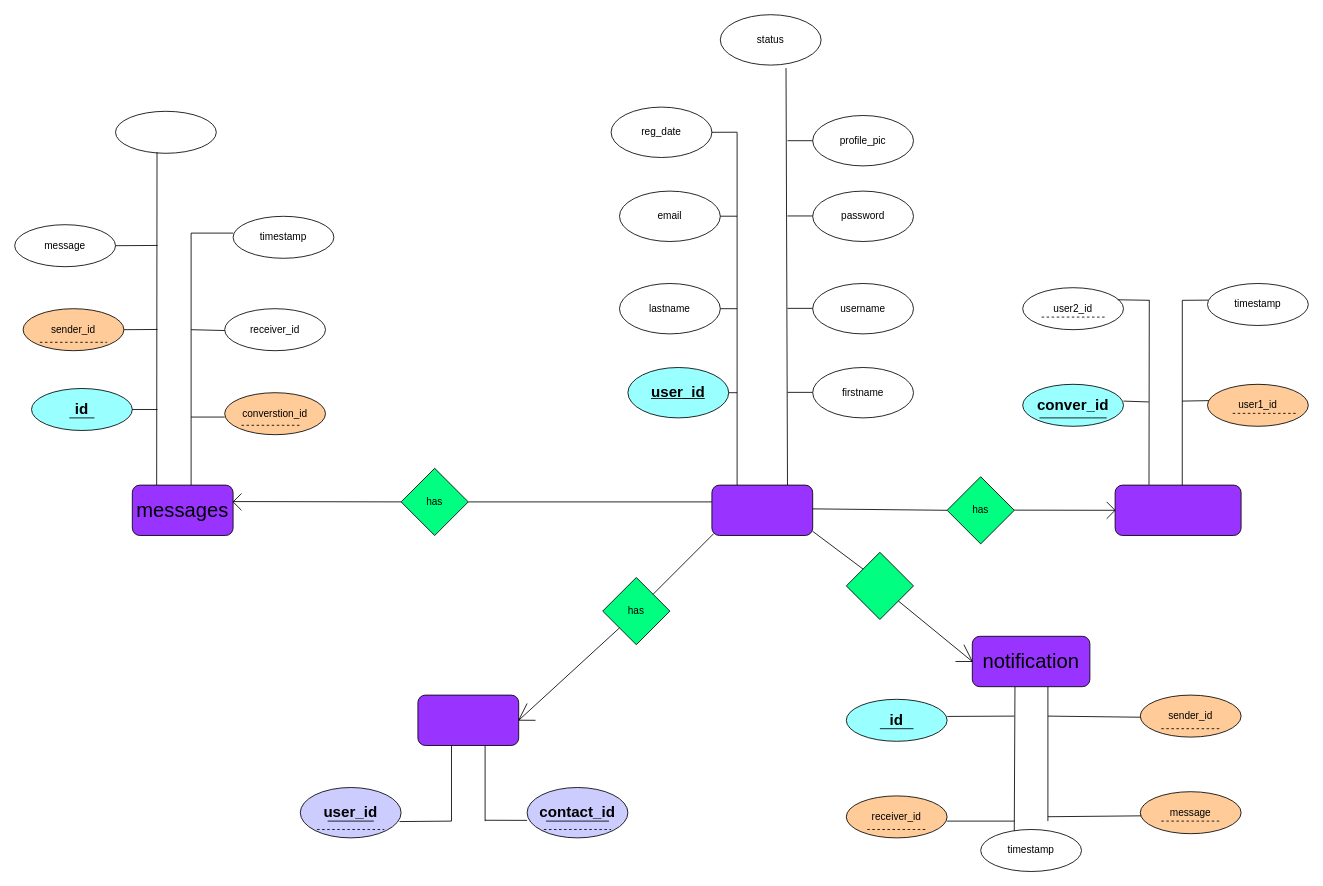
Some shapes in this 1323 by 886 pixel diagram are drawn without their labels. The shapes that lost their labels are listed below. From the top down, each one's centre as x and y in pixels, then its label:
At (165,131): "read_status".
At (762,510): "Users".
At (1177,510): "conversation".
At (879,585): "receive".
At (468,720): "contact".
